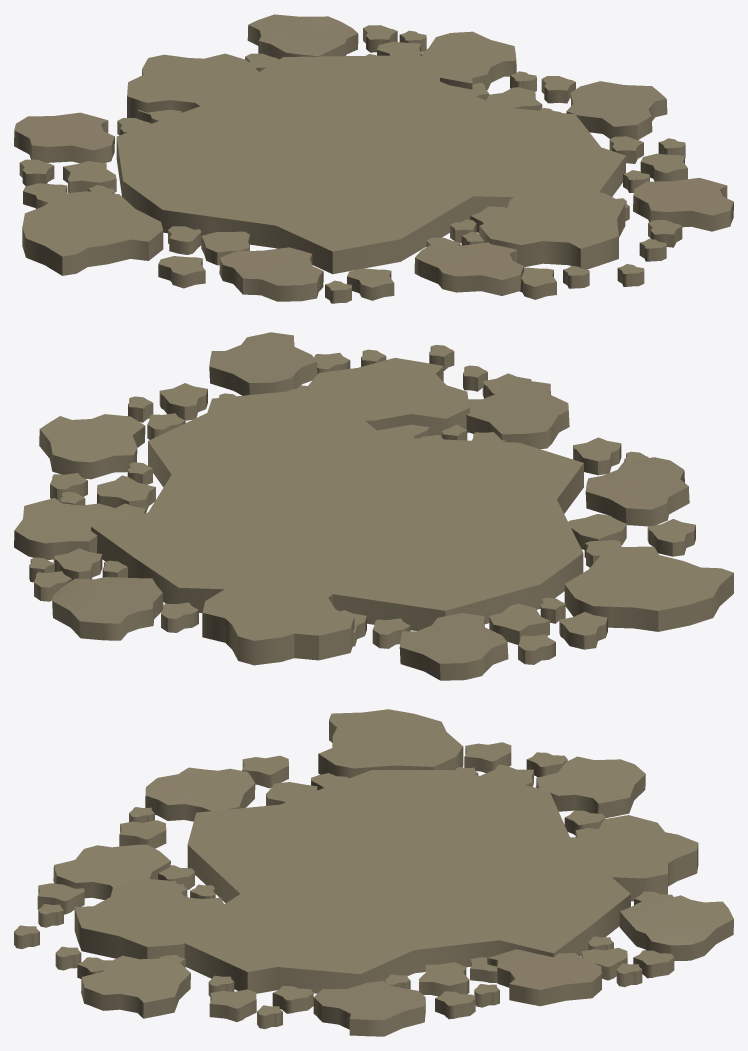
File: ground.fbx
The picture shows the model from 3 angles, top to bottom: view 1: azimuth 30°, elevation 25°; view 2: azimuth 150°, elevation 25°; view 3: azimuth 270°, elevation 25°; orthographic projection. The views are drawn at different scales.
Visible parts, largest first — view 1: pCube60; view 2: pCube60; view 3: pCube60.
Boxes of the visible parts, x1=… form: pCube60: x1=14, y1=14, x2=733, y2=303; pCube60: x1=14, y1=332, x2=733, y2=680; pCube60: x1=14, y1=709, x2=733, y2=1036.
Bounding box in the file's own units: 13.04 × 0.4581 × 12.68.
